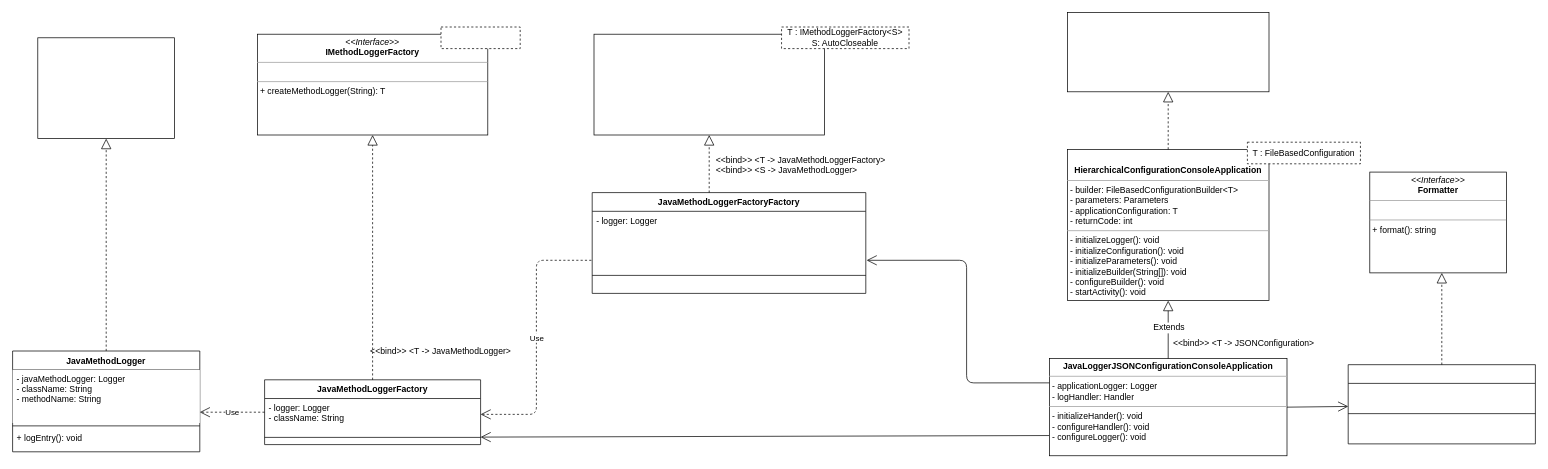
This 1548x469 diagram has some shape labels left out. The centre of each missing label's shape, as x and y in pixels:
"<<Interface>> AutoCloseable + close(): void" goes at point 106,88.
"<<Interface>> IConsoleApplication + run(String[]): int" goes at point 1168,52.
"<<Interface>> IMethodLoggerFactoryFactory + createMethodLoggerFactory(String): T" goes at point 708,84.
"BaseFormatter" goes at point 1441,404.
"T : AutoCloseable" goes at point 480,37.
